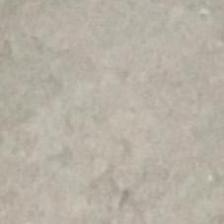Non_Crack: (7, 11, 189, 224)
